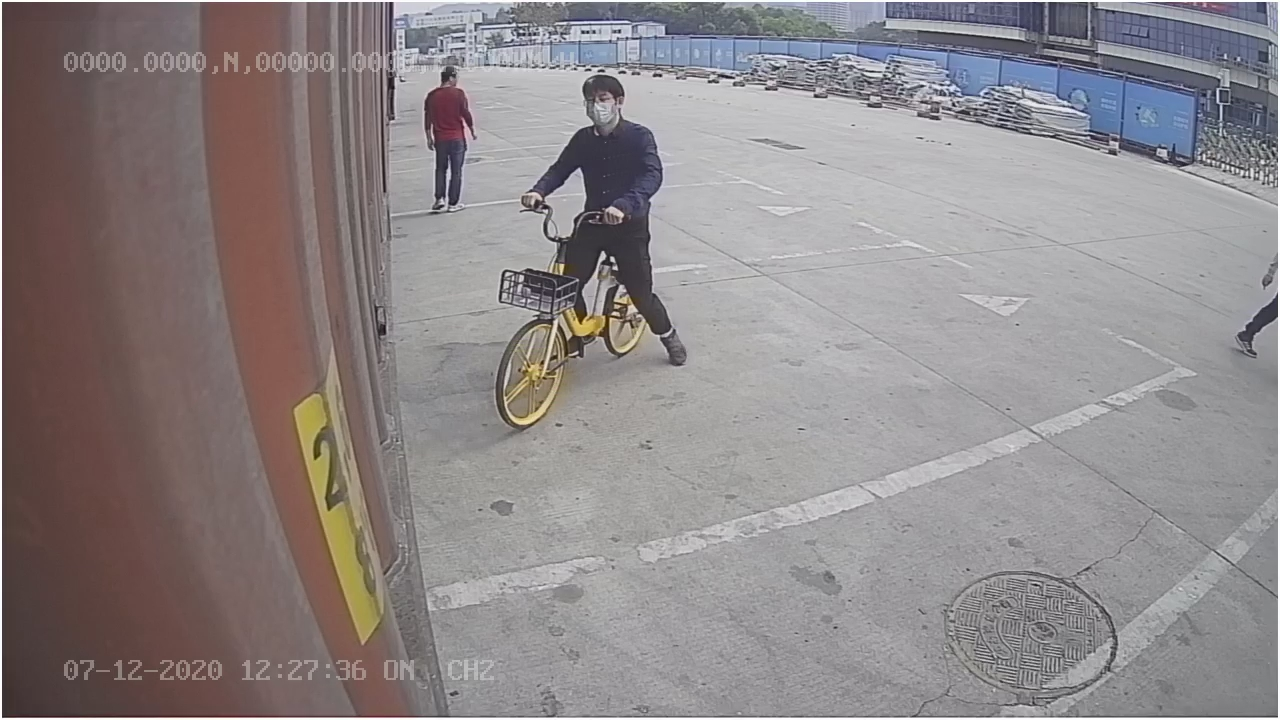person: (416, 65, 481, 219)
